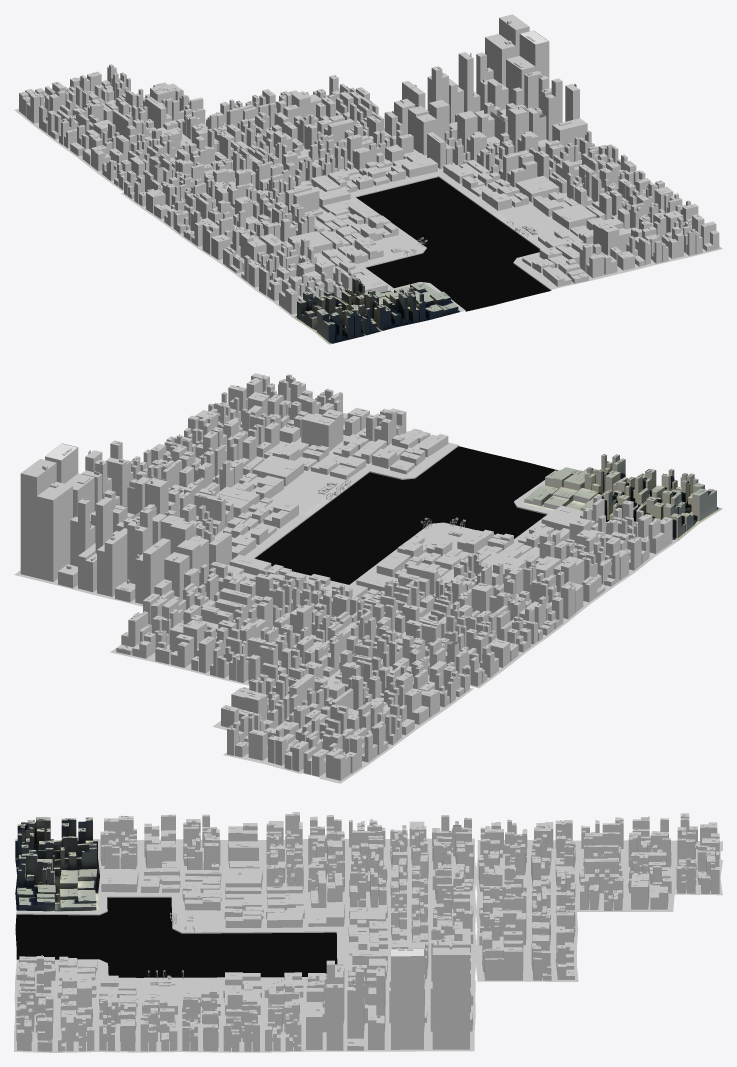
File: ciudad_19.DAE
3 views of the same model, one above another, from view 1: azimuth 30°, elevation 25°; view 2: azimuth 150°, elevation 25°; view 3: azimuth 270°, elevation 25° (orthographic). The views are drawn at different scales.
Visible parts, largest first — view 1: Object07, Object05, Object02, Object105, Object106, Object104, Object06, edificios_camara06, Object04, Object, Object55, Object123 (+99 smaller); view 2: Object07, Object105, Object05, Object103, Object104, Object102, Object08, Object112, Object108, Object132, Object20, Object109 (+95 smaller); view 3: Object07, Object05, Object105, Object106, Object02, Object107, Object110, Object60, Object64, Object124, Object55, Object132 (+109 smaller).
Boxes of the visible parts, x1,y1,x2,y2 form: Object07: [356, 177, 550, 311]; Object05: [350, 171, 565, 311]; Object02: [541, 78, 587, 146]; Object105: [485, 14, 529, 86]; Object106: [506, 34, 549, 104]; Object104: [457, 52, 496, 113]; Object06: [408, 100, 449, 156]; edificios_camara06: [490, 104, 546, 152]; Object04: [457, 110, 499, 161]; Object: [312, 306, 363, 344]; Object55: [674, 214, 722, 257]; Object123: [78, 131, 129, 173]; Object07: [255, 446, 557, 584]; Object105: [14, 459, 72, 584]; Object05: [246, 443, 560, 586]; Object103: [93, 507, 152, 603]; Object104: [55, 494, 112, 594]; Object102: [131, 538, 189, 606]; Object08: [300, 727, 367, 783]; Object112: [187, 627, 247, 680]; Object108: [110, 611, 171, 660]; Object132: [223, 712, 278, 763]; Object20: [579, 534, 633, 588]; Object109: [149, 619, 206, 670]; Object07: [15, 897, 337, 977]; Object05: [16, 893, 347, 998]; Object105: [428, 945, 474, 1051]; Object106: [386, 949, 428, 1051]; Object02: [304, 960, 345, 1051]; Object107: [345, 966, 386, 1051]; Object110: [476, 938, 530, 981]; Object60: [138, 1007, 179, 1052]; Object64: [221, 1009, 262, 1052]; Object124: [577, 869, 626, 911]; Object55: [14, 1008, 55, 1052]; Object132: [672, 855, 722, 895].
Bounding box in the file's own units: 14698 × 20540 × 3142.
